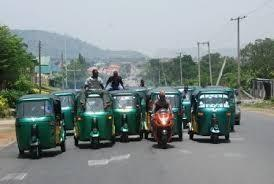keke: (16, 94, 65, 159)
